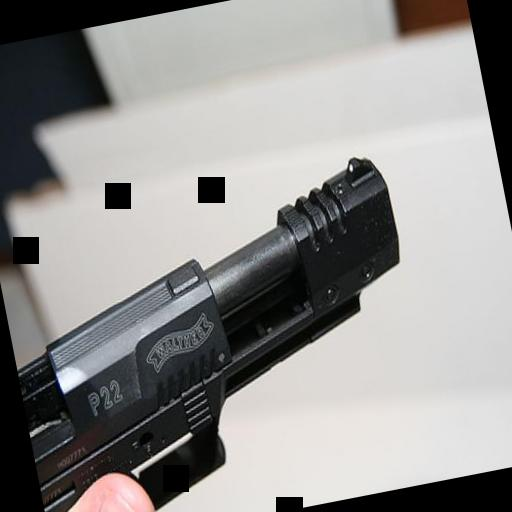Handgun: (0, 149, 442, 512)
